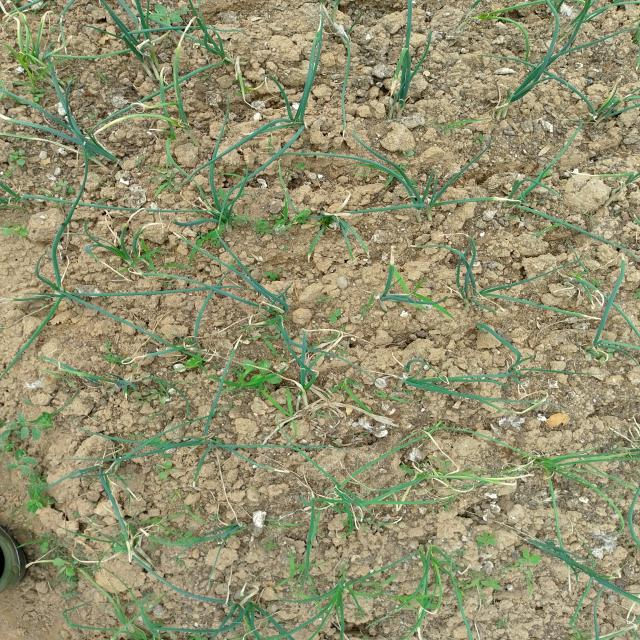Spring Onion: (467, 45, 568, 110), (534, 306, 640, 366), (111, 20, 183, 97), (65, 508, 170, 560), (372, 350, 479, 400), (181, 179, 255, 250), (290, 470, 380, 526), (357, 60, 439, 118), (256, 86, 330, 150), (507, 443, 594, 491), (198, 582, 270, 640), (384, 173, 463, 223), (310, 562, 383, 616), (244, 280, 314, 336), (52, 122, 116, 176), (31, 267, 95, 320), (358, 268, 422, 319), (302, 199, 367, 247), (563, 92, 629, 134), (176, 430, 247, 469), (159, 331, 217, 378), (430, 233, 492, 275), (507, 160, 552, 217), (86, 370, 152, 406), (538, 213, 602, 244), (0, 0, 59, 29)
